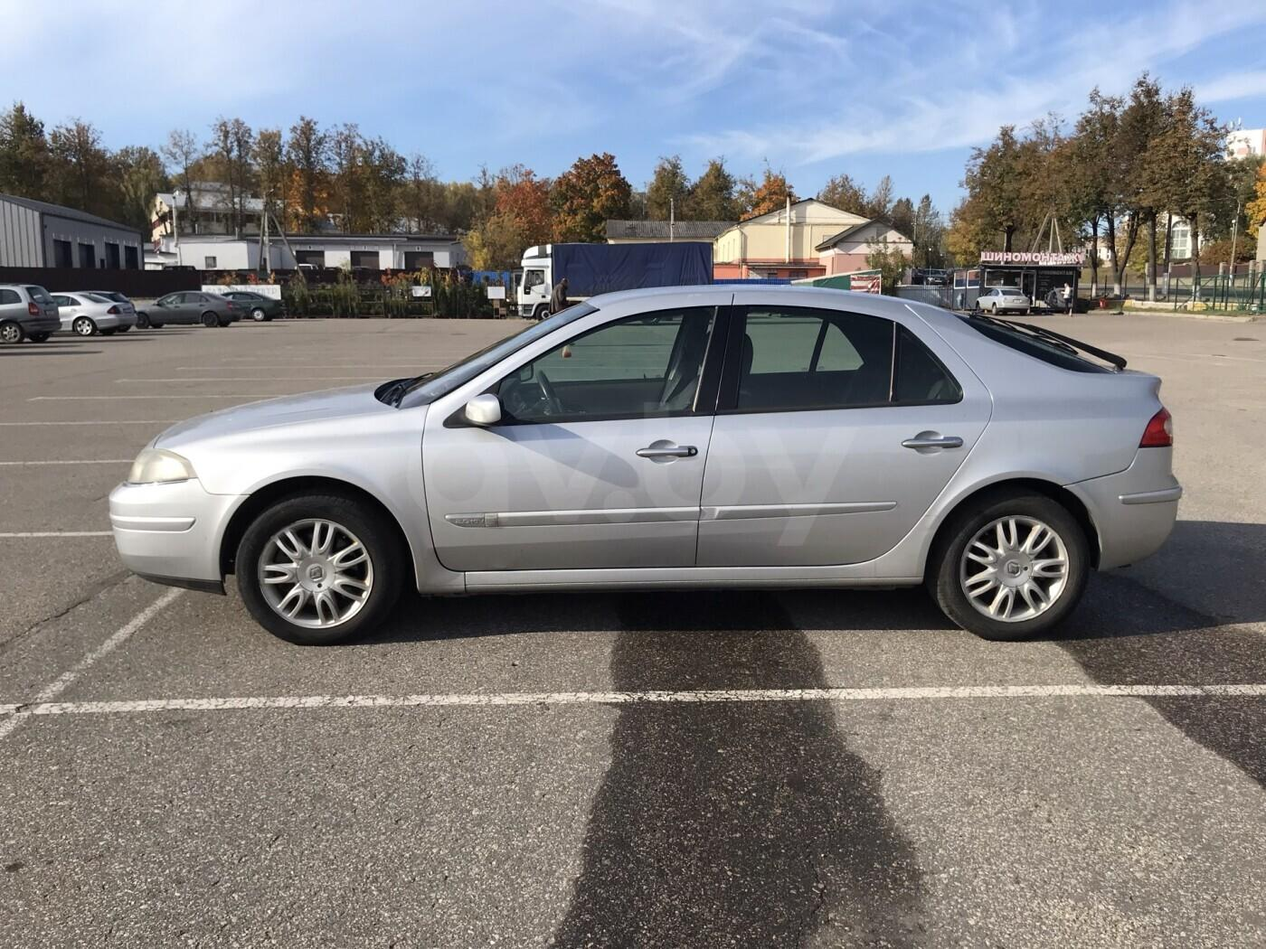Laguna_2005-2007: (110, 279, 1183, 666)
